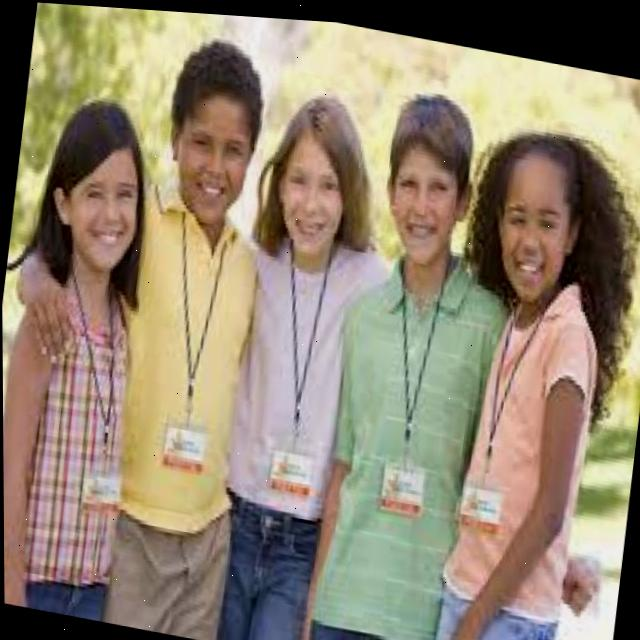id_card: (31, 258, 150, 517), (145, 203, 243, 481), (366, 247, 459, 518), (252, 236, 345, 503), (457, 285, 534, 524)
